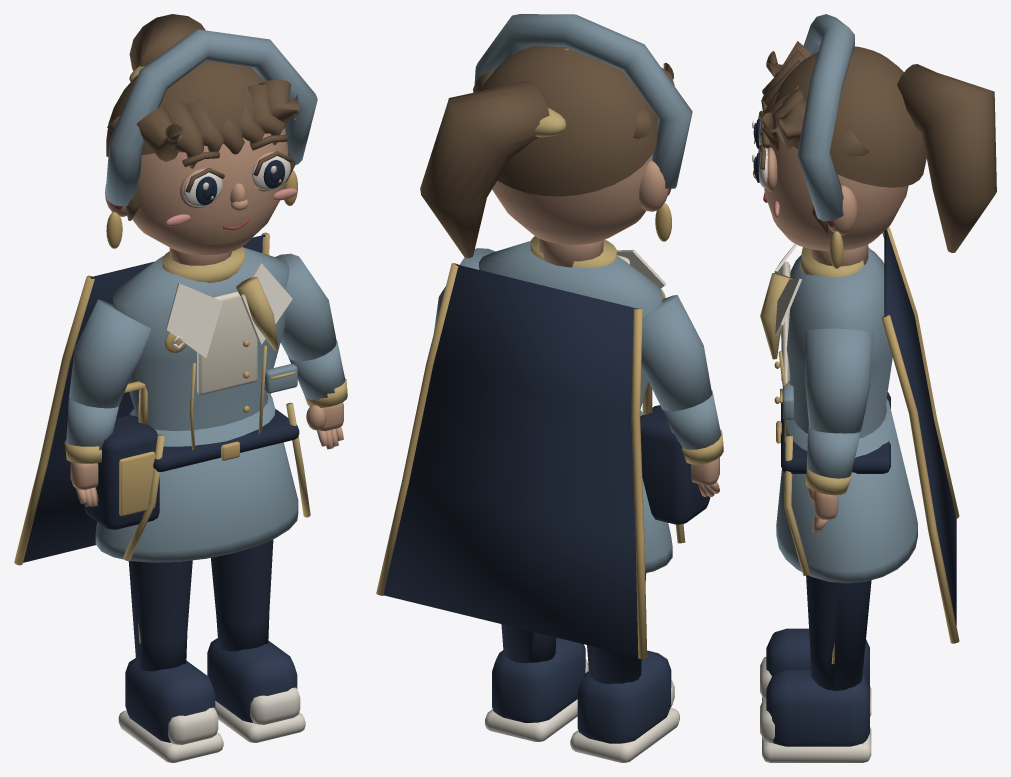
The model's file is npc_bosshighland_trainer_4.glb.
3 renders of one model, left to right at view 1: azimuth 30°, elevation 25°; view 2: azimuth 150°, elevation 25°; view 3: azimuth 270°, elevation 25°, orthographic. The views are drawn at different scales.
Visible parts, largest first — view 1: figure.079; view 2: figure.079; view 3: figure.079.
Part boxes in pixels (bbox=[...]): figure.079: bbox=[14, 14, 347, 762]; figure.079: bbox=[376, 14, 723, 762]; figure.079: bbox=[752, 14, 996, 762].
Bounding box in the file's own units: 0.6595 × 1.58 × 0.4961.
